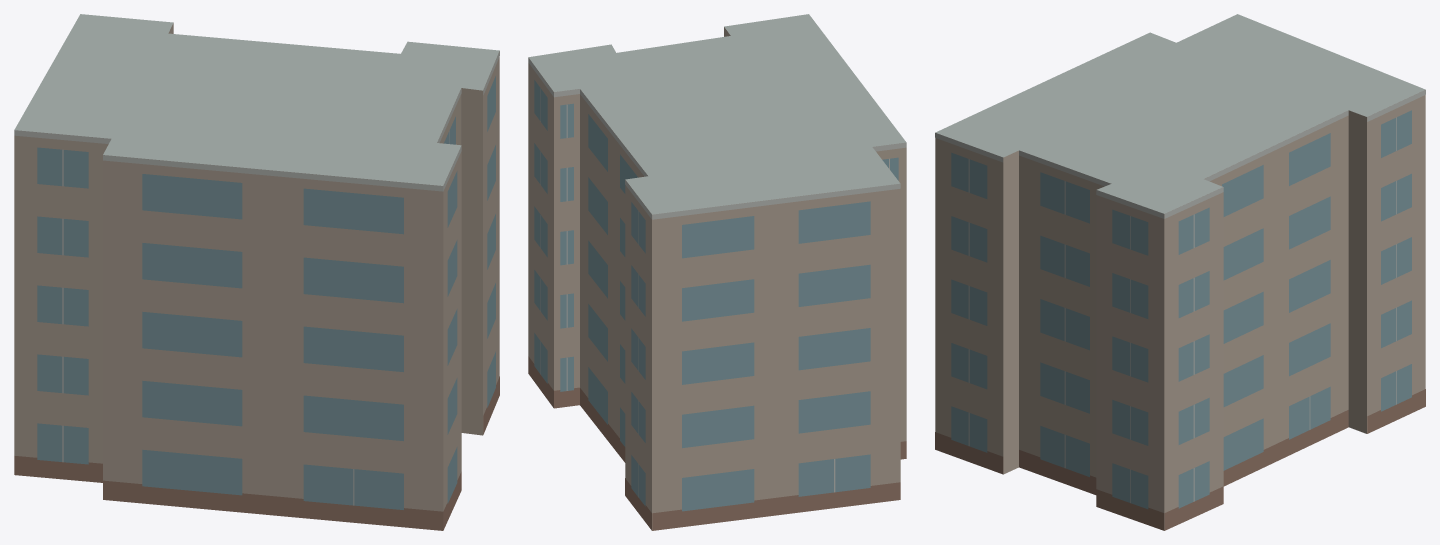
Rendered from survey-upis-33021019.glb.
3 renders of one model, left to right at view 1: azimuth 30°, elevation 25°; view 2: azimuth 150°, elevation 25°; view 3: azimuth 270°, elevation 25°, orthographic. The views are drawn at different scales.
Visible parts, largest first — view 1: survey-upis-33021019.tmp; view 2: survey-upis-33021019.tmp; view 3: survey-upis-33021019.tmp.
Part boxes in pixels (x1,y1,x2,y2): survey-upis-33021019.tmp: (14, 14, 499, 530); survey-upis-33021019.tmp: (528, 14, 906, 530); survey-upis-33021019.tmp: (935, 14, 1425, 530).
Bounding box in the file's own units: 20.43 × 15.1 × 21.19.
